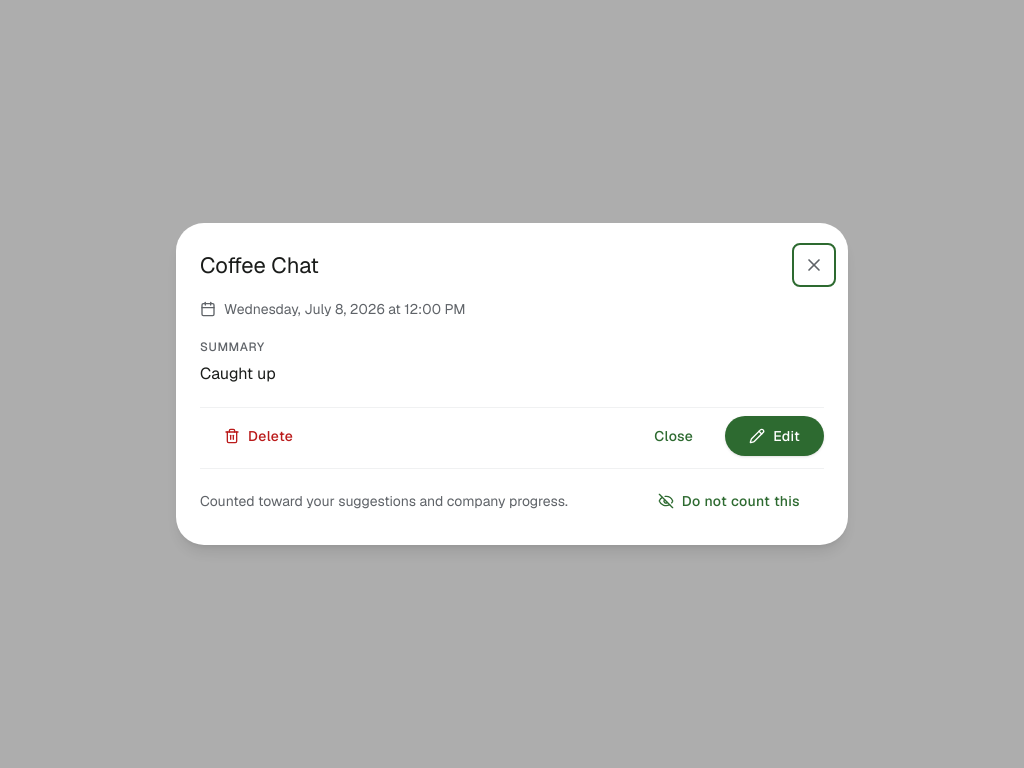
Test: interaction type editor › offers the shared five and none of the retired types
What coordinates should you click on to do the following:
click the button "Edit"
I would click on:
 (775, 436)
Its box is [725,416,824,456].
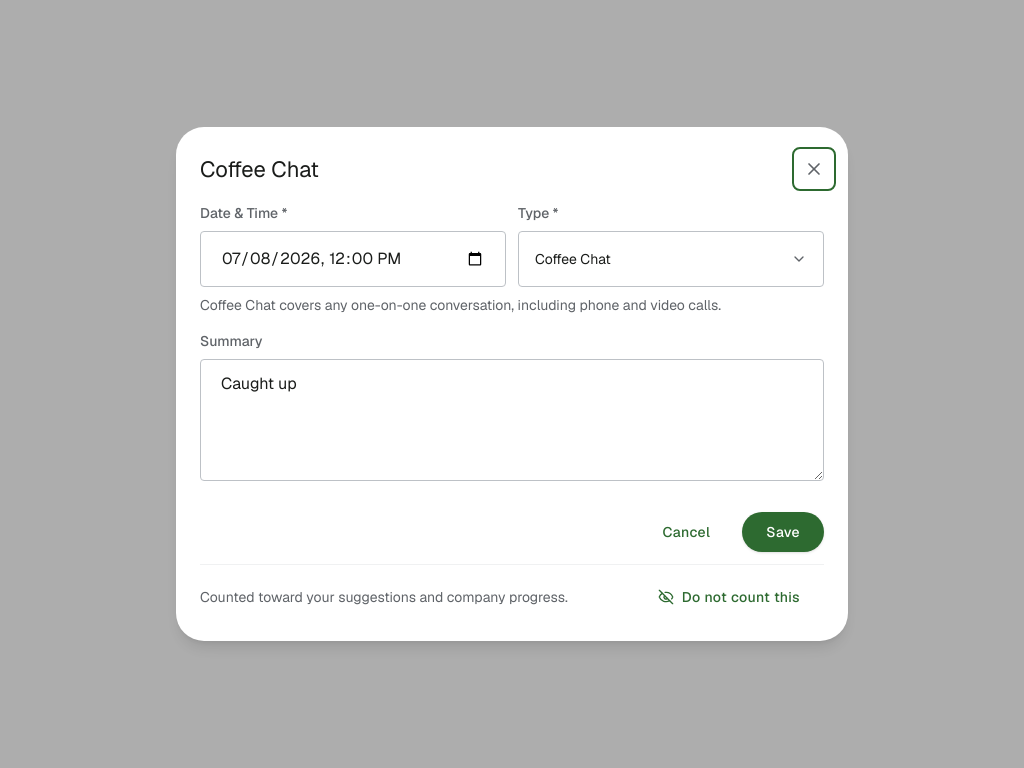
What coordinates should you click on to do the following:
click the dropdown named "Interaction type"
I would click on:
 (573, 259)
Its box is [518,231,824,287].
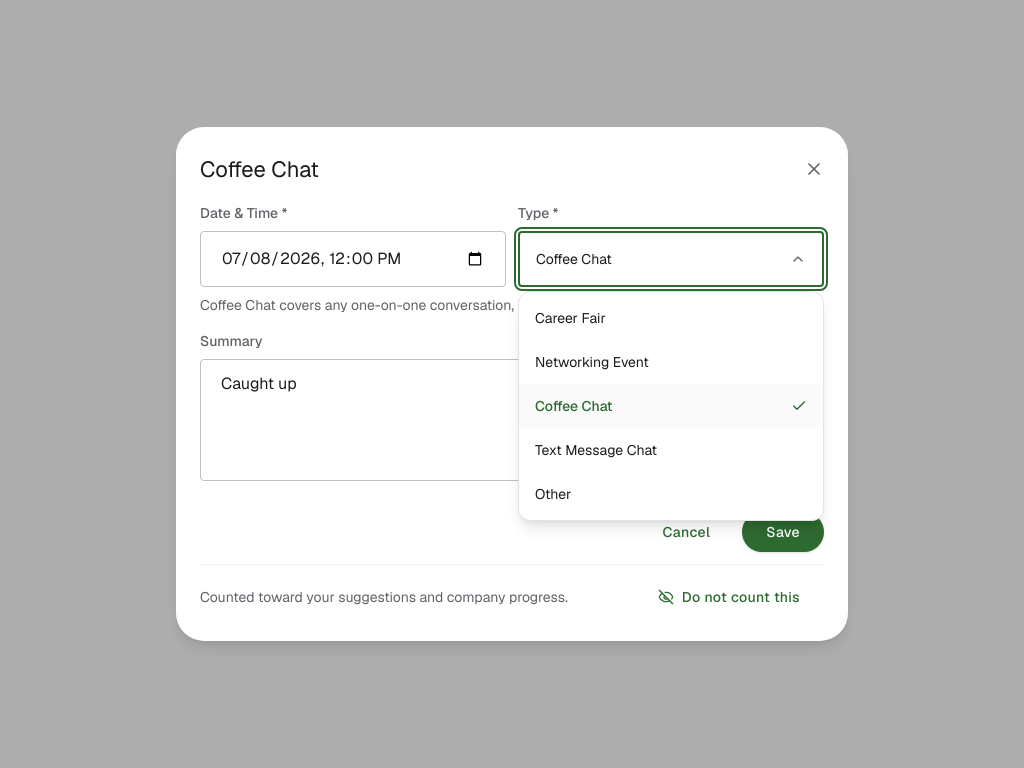
Now the text "Career Fair" is shown, box [535,308,606,328]
Now the text "Networking Event" is shown, box [535,352,649,372]
Now the text "Text Message Chat" is shown, box [535,440,657,460]
